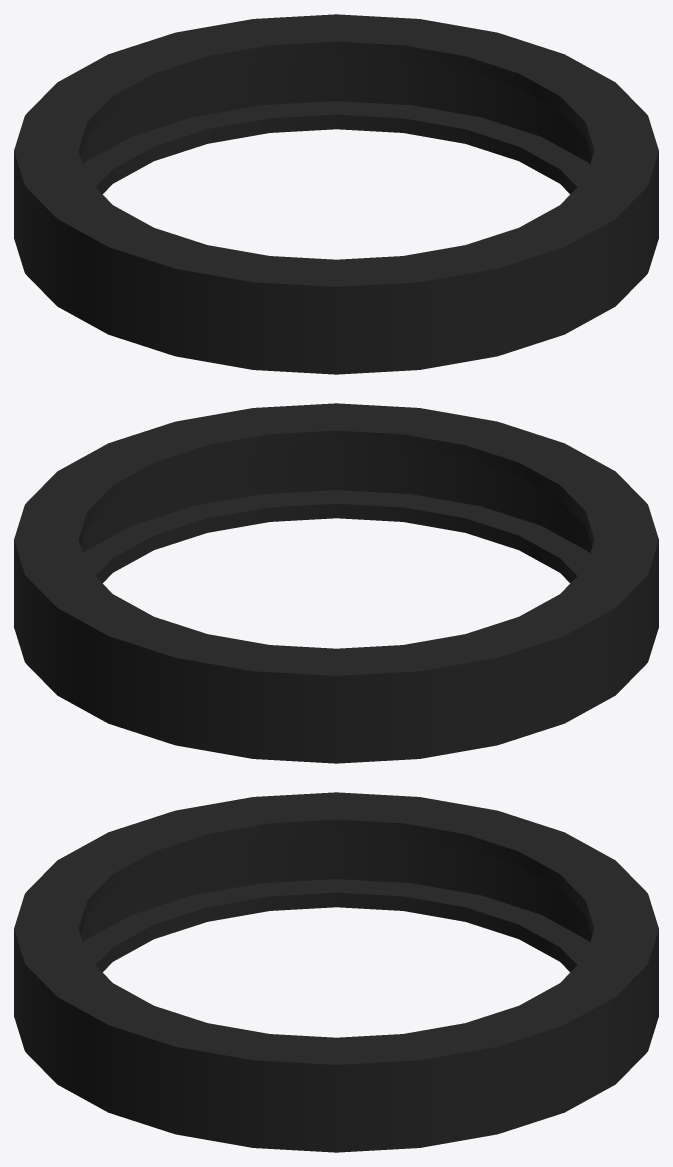
The model's file is Tantares_Decoupler_1.obj.
The picture shows the model from 3 angles, top to bottom: view 1: azimuth 30°, elevation 25°; view 2: azimuth 150°, elevation 25°; view 3: azimuth 270°, elevation 25°; orthographic projection.
Parts seen in each view (by area): view 1: Tantares_Decoupler_1; view 2: Tantares_Decoupler_1; view 3: Tantares_Decoupler_1.
Boxes of the visible parts, x1,y1,x2,y2 form: Tantares_Decoupler_1: (14,14,658,374); Tantares_Decoupler_1: (14,403,658,763); Tantares_Decoupler_1: (14,792,658,1152).
Bounding box in the file's own units: 1.25 × 0.1875 × 1.25.
